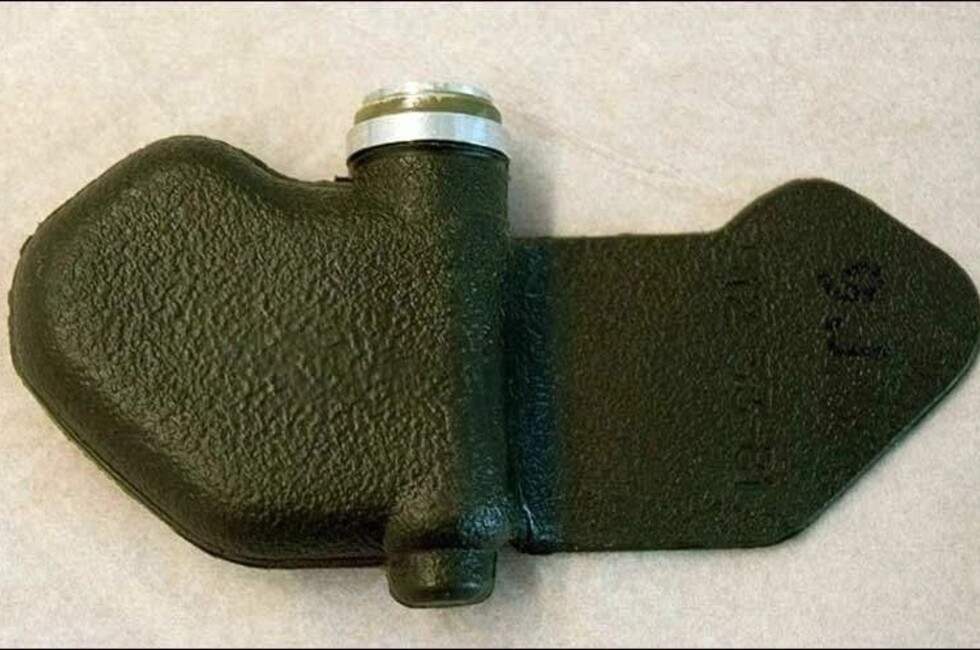butterfly: (8, 72, 980, 629)
